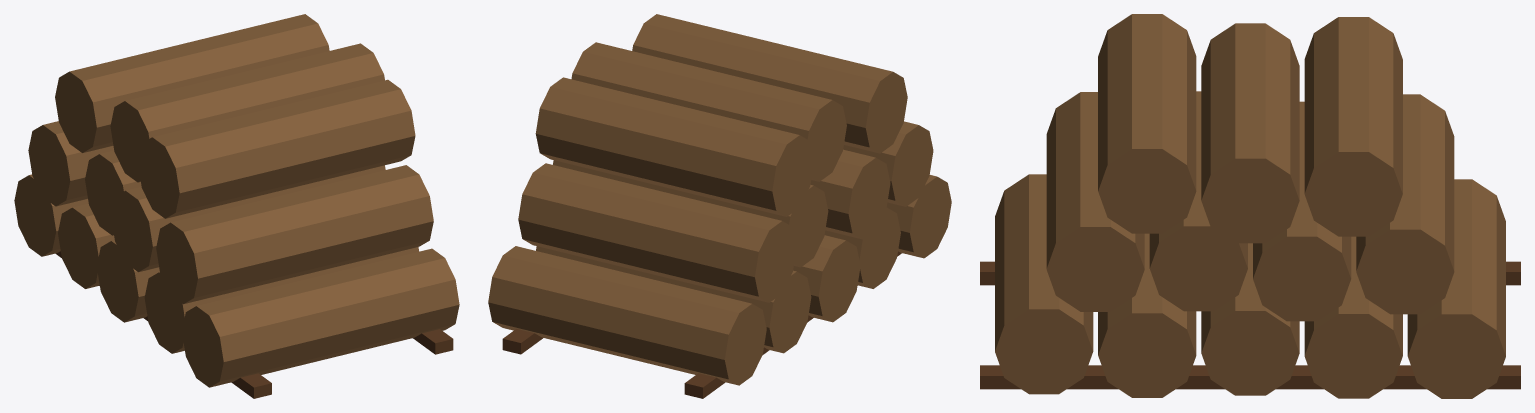
The model's file is wp-woodpile.glb.
The picture shows the model from 3 angles, left to right: view 1: azimuth 30°, elevation 25°; view 2: azimuth 150°, elevation 25°; view 3: azimuth 270°, elevation 25°; orthographic projection. The views are drawn at different scales.
Visible parts, largest first — view 1: Log1_0, Log2_0, Log0_0, Log2_2, Log2_1, Log1_1, Log1_3, Log0_1, Log0_3, Log0_2, Log0_4, Log1_2 (+2 smaller); view 2: Log2_2, Log1_3, Log0_4, Log2_0, Log2_1, Log1_1, Log0_3, Log0_2, Log1_2, Log1_0, Log0_0, Log0_1 (+2 smaller); view 3: Log2_1, Log2_0, Log2_2, Log0_4, Log0_0, Log1_3, Log1_0, Log0_1, Log1_2, Log0_3, Log0_2, Log1_1 (+2 smaller).
Boxes of the visible parts, x1,y1,x2,y2 form: Log1_0: [156, 165, 433, 304]; Log2_0: [138, 79, 415, 218]; Log0_0: [182, 248, 459, 387]; Log2_2: [55, 14, 329, 152]; Log2_1: [110, 43, 384, 182]; Log1_1: [111, 165, 385, 272]; Log1_3: [28, 121, 113, 206]; Log0_1: [144, 247, 419, 353]; Log0_3: [58, 203, 114, 288]; Log0_2: [97, 240, 159, 322]; Log0_4: [14, 174, 88, 256]; Log1_2: [85, 150, 141, 235]; Log2_2: [535, 77, 814, 216]; Log1_3: [518, 163, 796, 302]; Log0_4: [488, 246, 766, 385]; Log2_0: [632, 14, 907, 153]; Log2_1: [571, 42, 846, 181]; Log1_1: [810, 149, 890, 239]; Log0_3: [536, 246, 811, 353]; Log0_2: [793, 235, 860, 322]; Log1_2: [553, 160, 828, 267]; Log1_0: [843, 121, 933, 206]; Log0_0: [887, 175, 951, 258]; Log0_1: [824, 207, 900, 288]; Log2_1: [1201, 23, 1299, 243]; Log2_0: [1098, 14, 1196, 233]; Log2_2: [1304, 17, 1402, 236]; Log0_4: [1407, 179, 1505, 398]; Log0_0: [995, 174, 1093, 394]; Log1_3: [1356, 94, 1454, 314]; Log1_0: [1046, 92, 1144, 311]; Log0_1: [1098, 233, 1196, 397]; Log1_2: [1253, 101, 1351, 321]; Log0_3: [1304, 236, 1402, 398]; Log0_2: [1201, 243, 1299, 395]; Log1_1: [1149, 91, 1247, 311].
Size of the model in its own units: 1.42 by 1.11 by 2.2.
